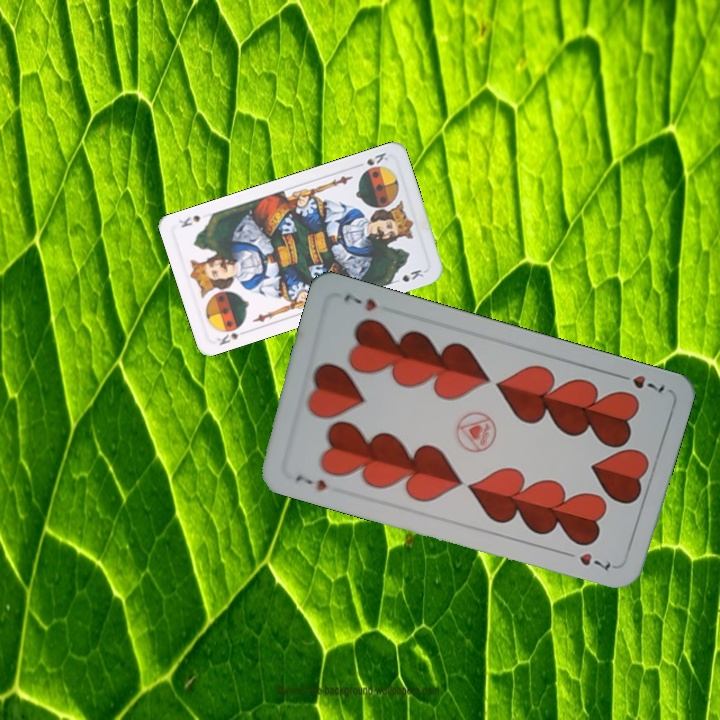H7: (612, 370, 668, 396), (291, 469, 330, 494)
SK: (213, 320, 250, 348), (352, 148, 391, 170)
